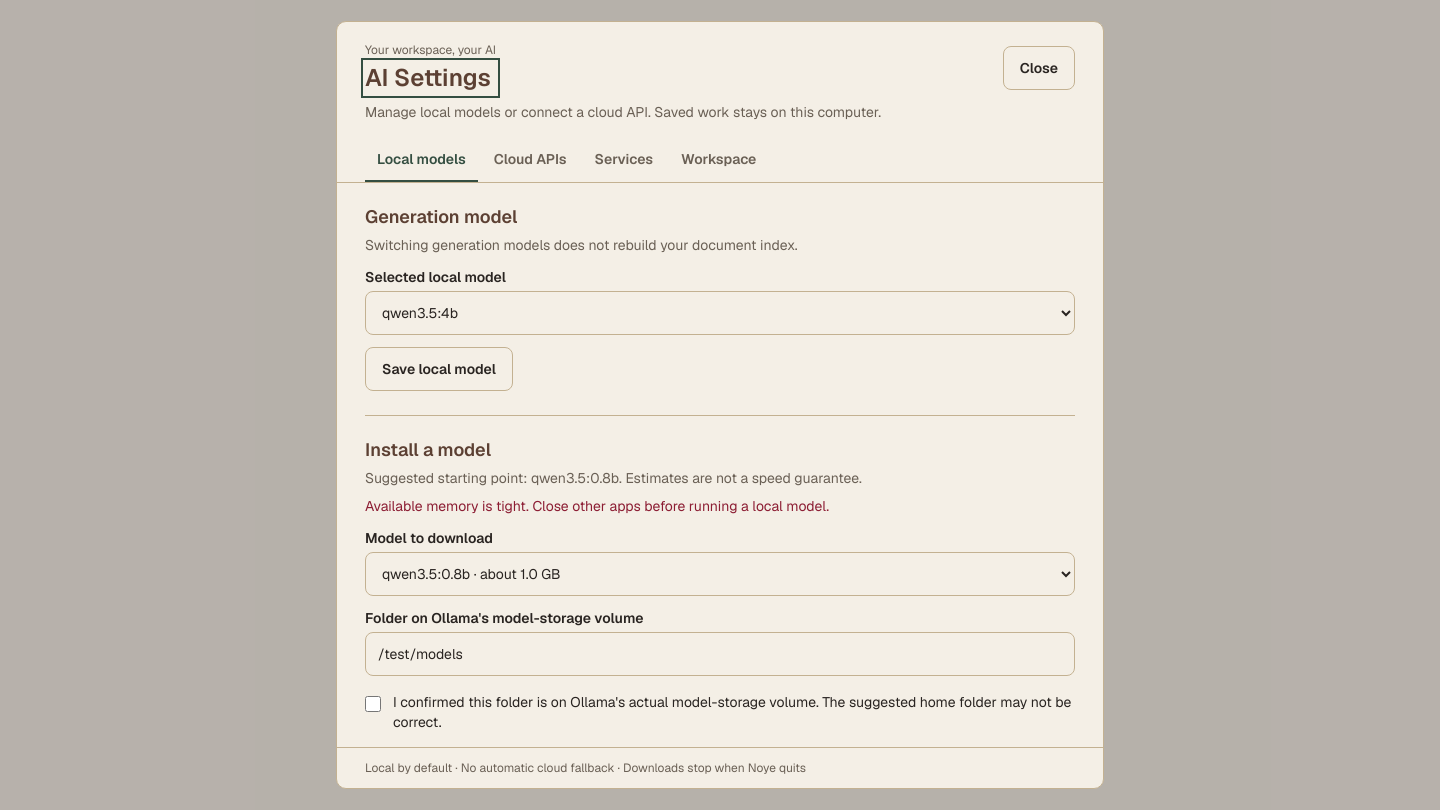
it: surfaces save errors and does not claim success
Expected: the text "Suggested starting point" is shown, [365,469,622,487]
Click the button "Save local model".
click(439, 369)  # box [365,347,513,391]
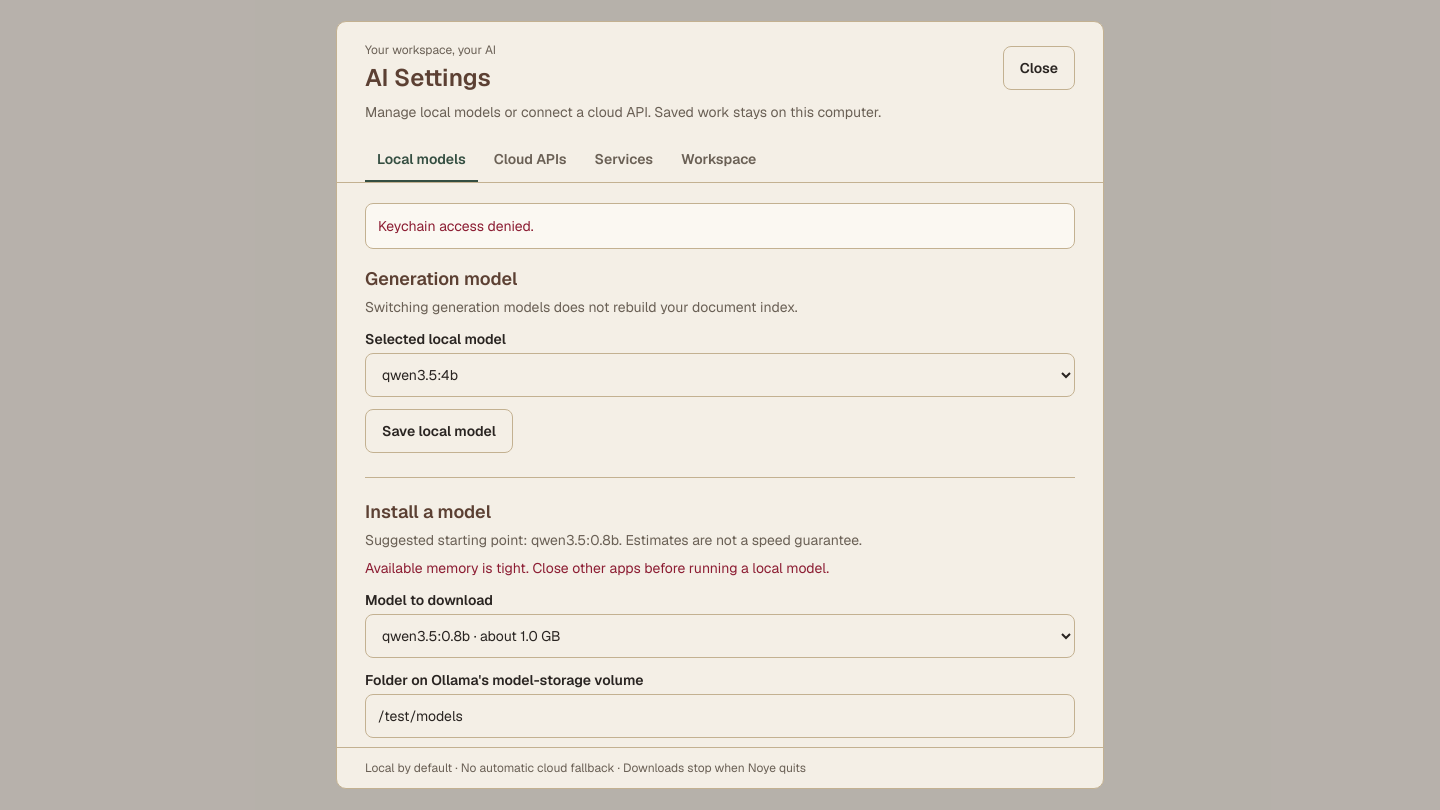
Result: the message reads "Keychain access denied." at [378,217,534,235]
